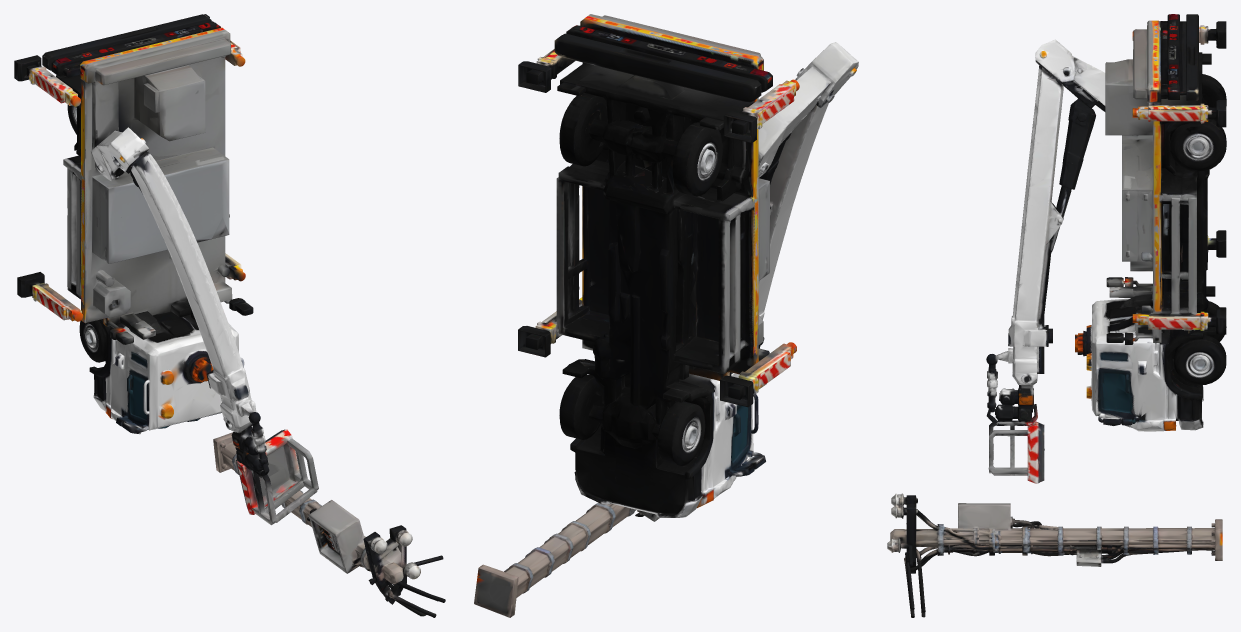
The model's file is podemnik.glb.
3 renders of one model, left to right at view 1: azimuth 30°, elevation 25°; view 2: azimuth 150°, elevation 25°; view 3: azimuth 270°, elevation 25°, orthographic. The views are drawn at different scales.
Visible parts, largest first — view 1: podemnik; view 2: podemnik; view 3: podemnik.
Part boxes in pixels (x1,y1,x2,y2): podemnik: (14,14,445,617); podemnik: (474,14,858,617); podemnik: (887,14,1226,617).
Bounding box in the file's own units: 7.82 × 14.46 × 9.
1 material, 1 textured.
